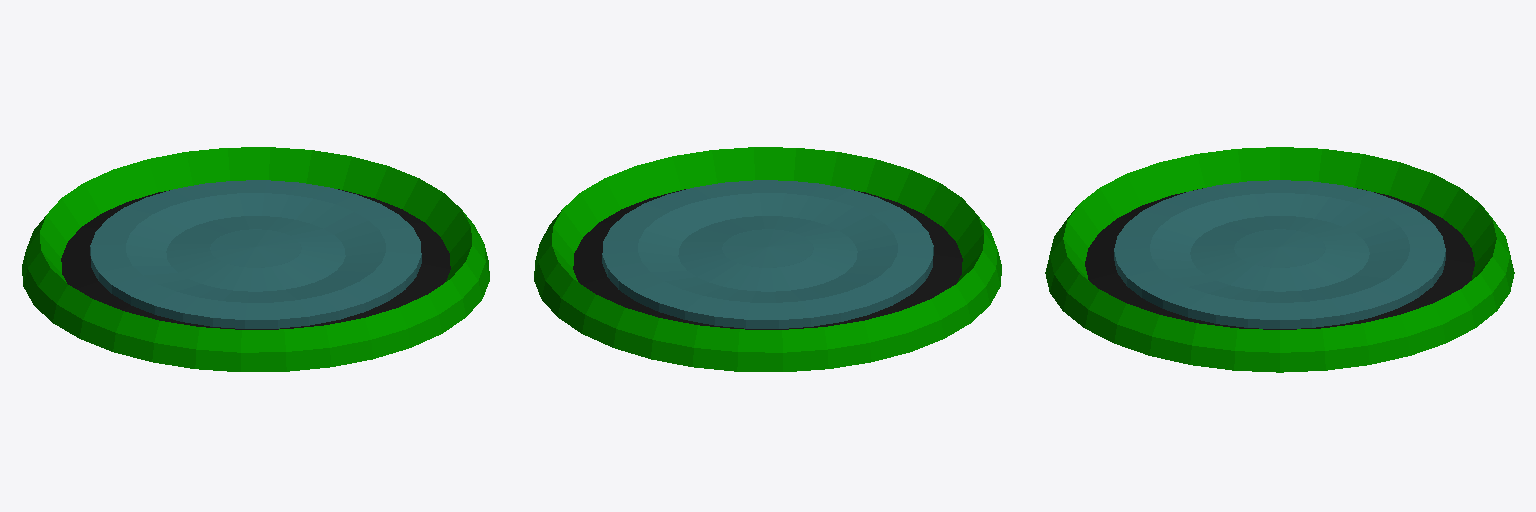
The model's file is target2.obj.
The picture shows the model from 3 angles: view 1: azimuth 30°, elevation 25°; view 2: azimuth 150°, elevation 25°; view 3: azimuth 270°, elevation 25°; orthographic projection.
Parts seen in each view (by area): view 1: Sphere; view 2: Sphere; view 3: Sphere.
Boxes of the visible parts, x1=… form: Sphere: x1=22, y1=147, x2=489, y2=371; Sphere: x1=534, y1=147, x2=1001, y2=371; Sphere: x1=1045, y1=147, x2=1514, y2=372.
Bounding box in the file's own units: 0.7 × 0.0574 × 0.7.